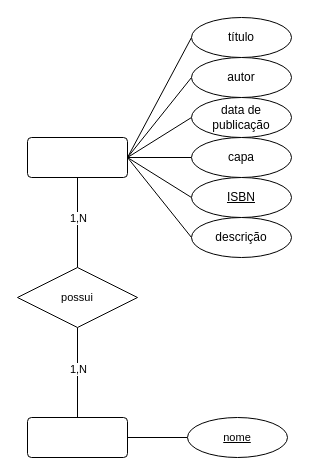
The diagram is 309 pixels wide and 475 high, and some of its shapes have lost their labels. Each missing label, with the box of its shape:
Gênero: (26, 416, 128, 458)
Livro: (26, 136, 128, 178)
